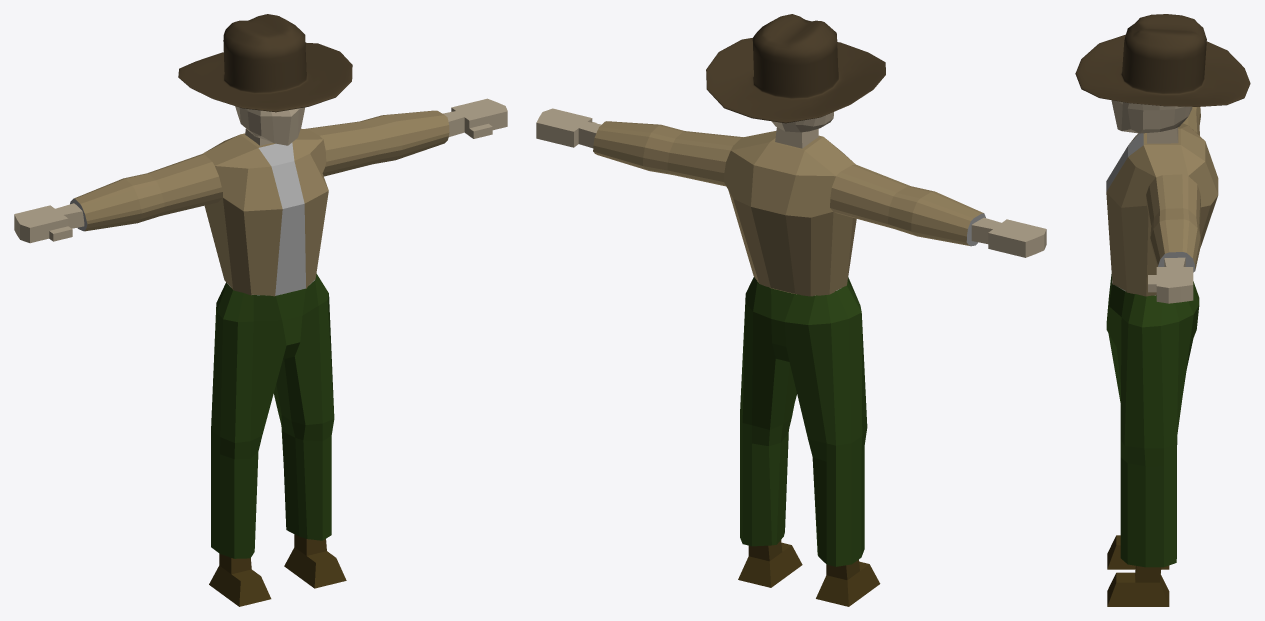
File: Animal_control_dude.fbx
3 renders of one model, left to right at view 1: azimuth 30°, elevation 25°; view 2: azimuth 150°, elevation 25°; view 3: azimuth 270°, elevation 25°, orthographic. The views are drawn at different scales.
Parts seen in each view (by area): view 1: Animal_control_dude; view 2: Animal_control_dude; view 3: Animal_control_dude.
Part boxes in pixels (bbox=[...]): Animal_control_dude: bbox=[14, 14, 507, 606]; Animal_control_dude: bbox=[536, 14, 1046, 606]; Animal_control_dude: bbox=[1075, 14, 1250, 606].
Bounding box in the file's own units: 180 × 194 × 55.41.
